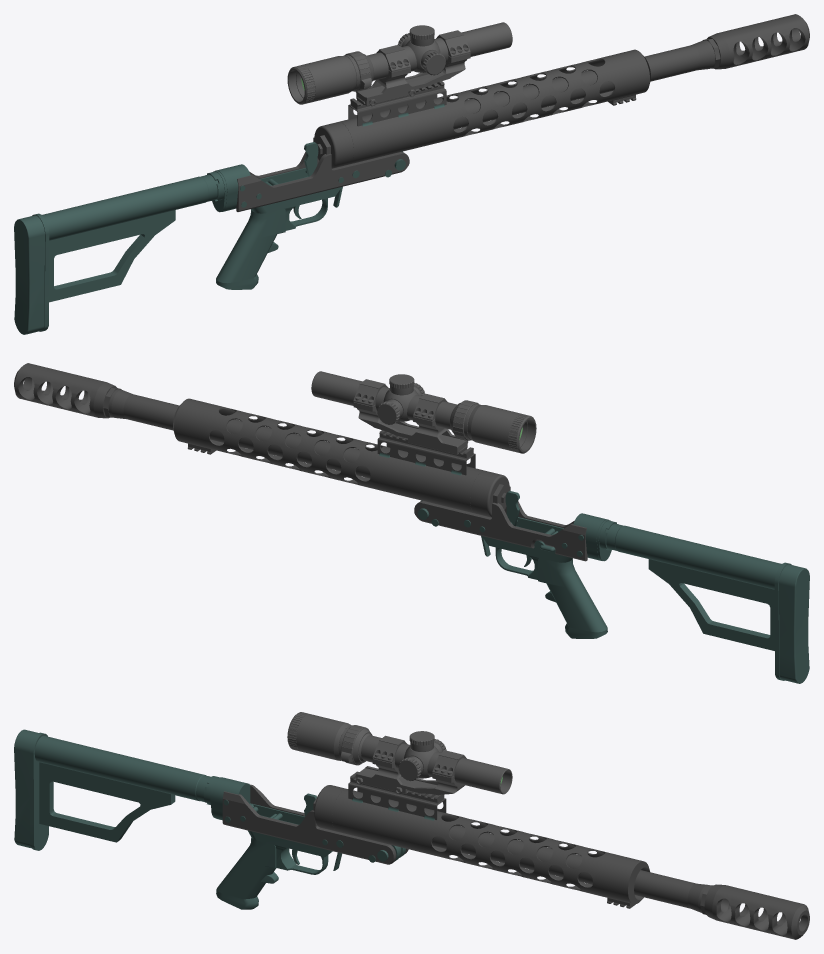
Rendered from BFG_50.fbx.
3 renders of one model, top to bottom at view 1: azimuth 30°, elevation 25°; view 2: azimuth 150°, elevation 25°; view 3: azimuth 330°, elevation 25°, orthographic.
Parts seen in each view (by area): view 1: OSN_STVOL_low, PRUKLAD_3_low, OSN_low, PRUKLAD_5_low, PRUKLAD_4_low, MAIN_1_low, STVOL_low, DTK_low, RUCHKA_low, KREP_low, POD_KREPLENIE_low, KOROBKA_low (+2 smaller); view 2: OSN_STVOL_low, PRUKLAD_3_low, OSN_low, PRUKLAD_5_low, PRUKLAD_4_low, STVOL_low, MAIN_2_low, DTK_low, RUCHKA_low, KREP_low, POD_KREPLENIE_low, KOROBKA_low (+2 smaller); view 3: OSN_STVOL_low, PRUKLAD_3_low, PRUKLAD_5_low, OSN_low, MAIN_1_low, STVOL_low, DTK_low, PRUKLAD_4_low, RUCHKA_low, KREP_low, POD_KREPLENIE_low, KOROBKA_low (+10 smaller).
Boxes of the visible parts, x1,y1,x2,y2 form: OSN_STVOL_low: [339, 49, 650, 164]; PRUKLAD_3_low: [42, 174, 218, 240]; OSN_low: [287, 22, 512, 104]; PRUKLAD_5_low: [49, 210, 175, 302]; PRUKLAD_4_low: [14, 213, 49, 334]; MAIN_1_low: [236, 152, 409, 211]; STVOL_low: [453, 40, 715, 129]; DTK_low: [707, 14, 809, 69]; RUCHKA_low: [216, 209, 285, 289]; KREP_low: [356, 53, 470, 101]; POD_KREPLENIE_low: [348, 88, 446, 126]; KOROBKA_low: [251, 168, 341, 213]; OSN_STVOL_low: [173, 398, 485, 513]; PRUKLAD_3_low: [605, 523, 781, 589]; OSN_low: [311, 371, 536, 453]; PRUKLAD_5_low: [648, 559, 774, 650]; PRUKLAD_4_low: [774, 562, 809, 683]; STVOL_low: [108, 389, 370, 478]; MAIN_2_low: [414, 501, 587, 561]; DTK_low: [14, 363, 116, 418]; RUCHKA_low: [538, 558, 607, 638]; KREP_low: [353, 402, 467, 450]; POD_KREPLENIE_low: [377, 437, 475, 475]; KOROBKA_low: [482, 517, 572, 562]; OSN_STVOL_low: [332, 789, 649, 904]; PRUKLAD_3_low: [34, 735, 210, 801]; PRUKLAD_5_low: [39, 762, 175, 842]; OSN_low: [287, 713, 512, 794]; MAIN_1_low: [222, 791, 396, 864]; STVOL_low: [432, 825, 709, 912]; DTK_low: [704, 884, 809, 939]; PRUKLAD_4_low: [14, 729, 48, 850]; RUCHKA_low: [216, 837, 276, 909]; KREP_low: [355, 758, 464, 795]; POD_KREPLENIE_low: [348, 782, 446, 819]; KOROBKA_low: [248, 803, 332, 857].
Size of the model in its own units: 55.69 by 14.52 by 3.55.
